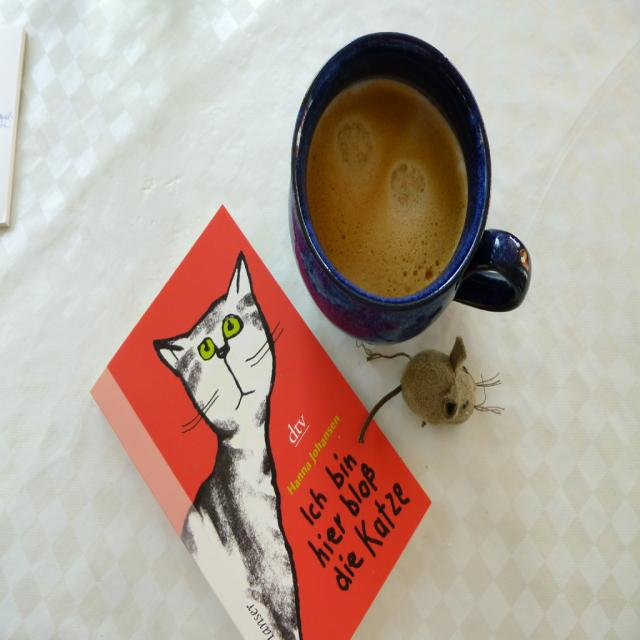Coffee: (305, 78, 467, 288)
